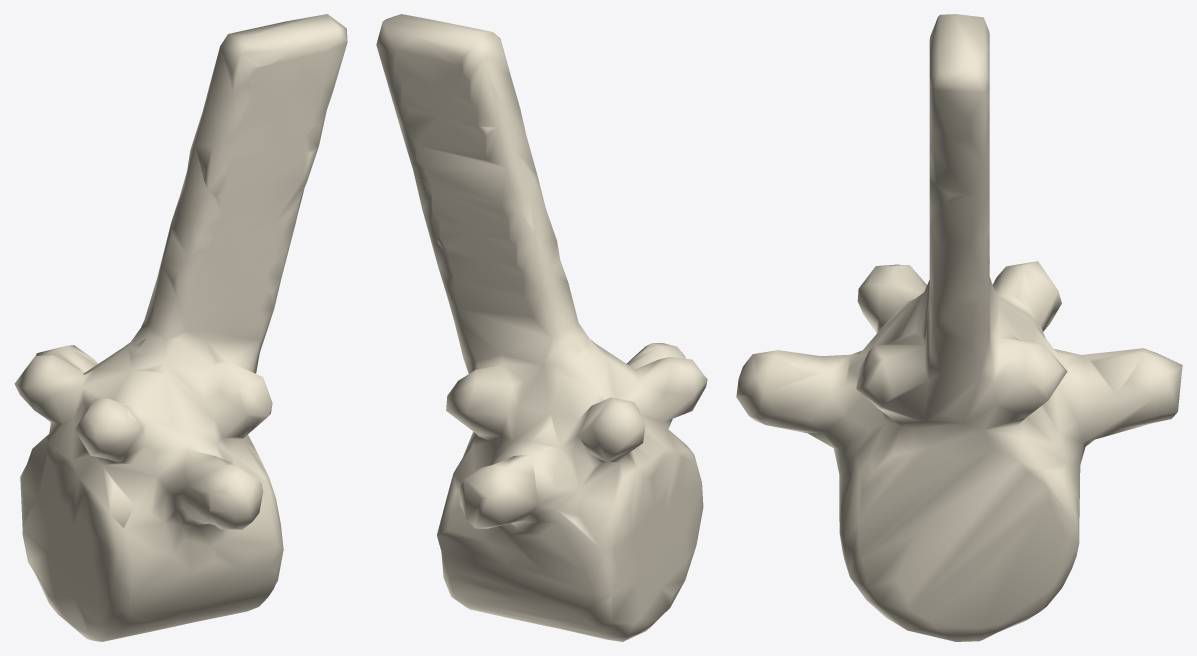
Rendered from thoracic_11.glb.
3 views of the same model, side by side, from view 1: azimuth 30°, elevation 25°; view 2: azimuth 150°, elevation 25°; view 3: azimuth 270°, elevation 25° (orthographic). The views are drawn at different scales.
Visible parts, largest first — view 1: geometry_0; view 2: geometry_0; view 3: geometry_0.
Part boxes in pixels (x1,y1,x2,y2): geometry_0: (14, 14, 347, 641); geometry_0: (376, 14, 707, 641); geometry_0: (736, 14, 1182, 641).
Bounding box in the file's own units: 0.1506 × 0.2796 × 0.1781.
